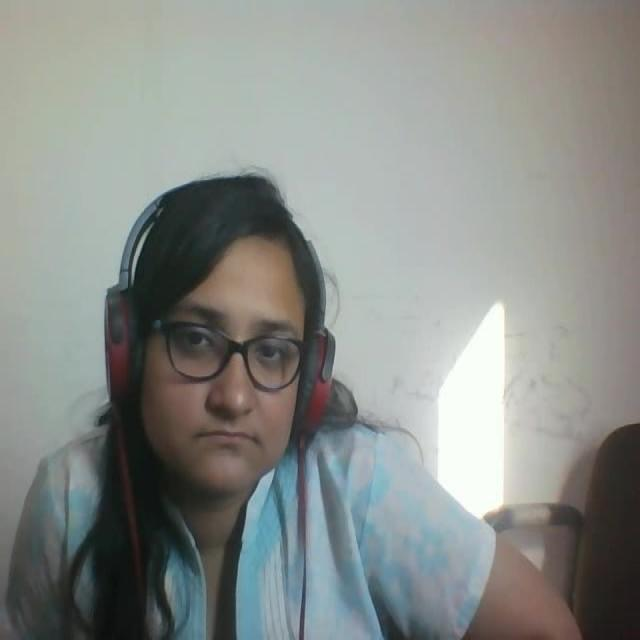Engaged: (92, 157, 340, 520)
